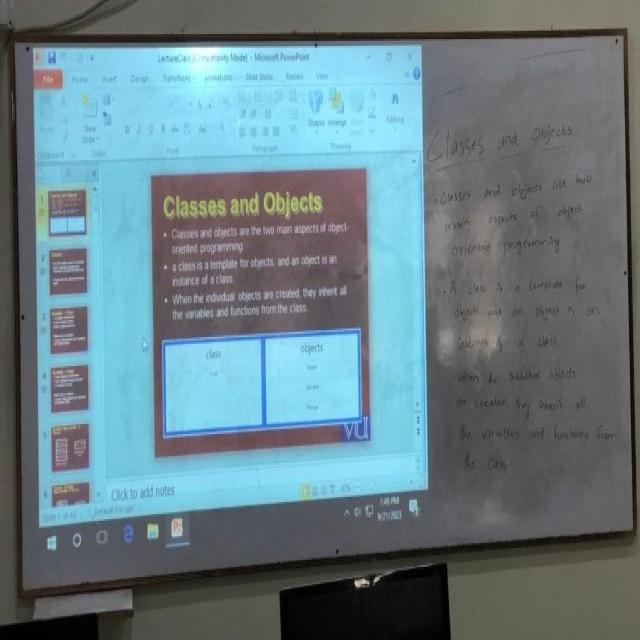Slide: (33, 47, 428, 574)
White-board: (13, 36, 632, 596)
